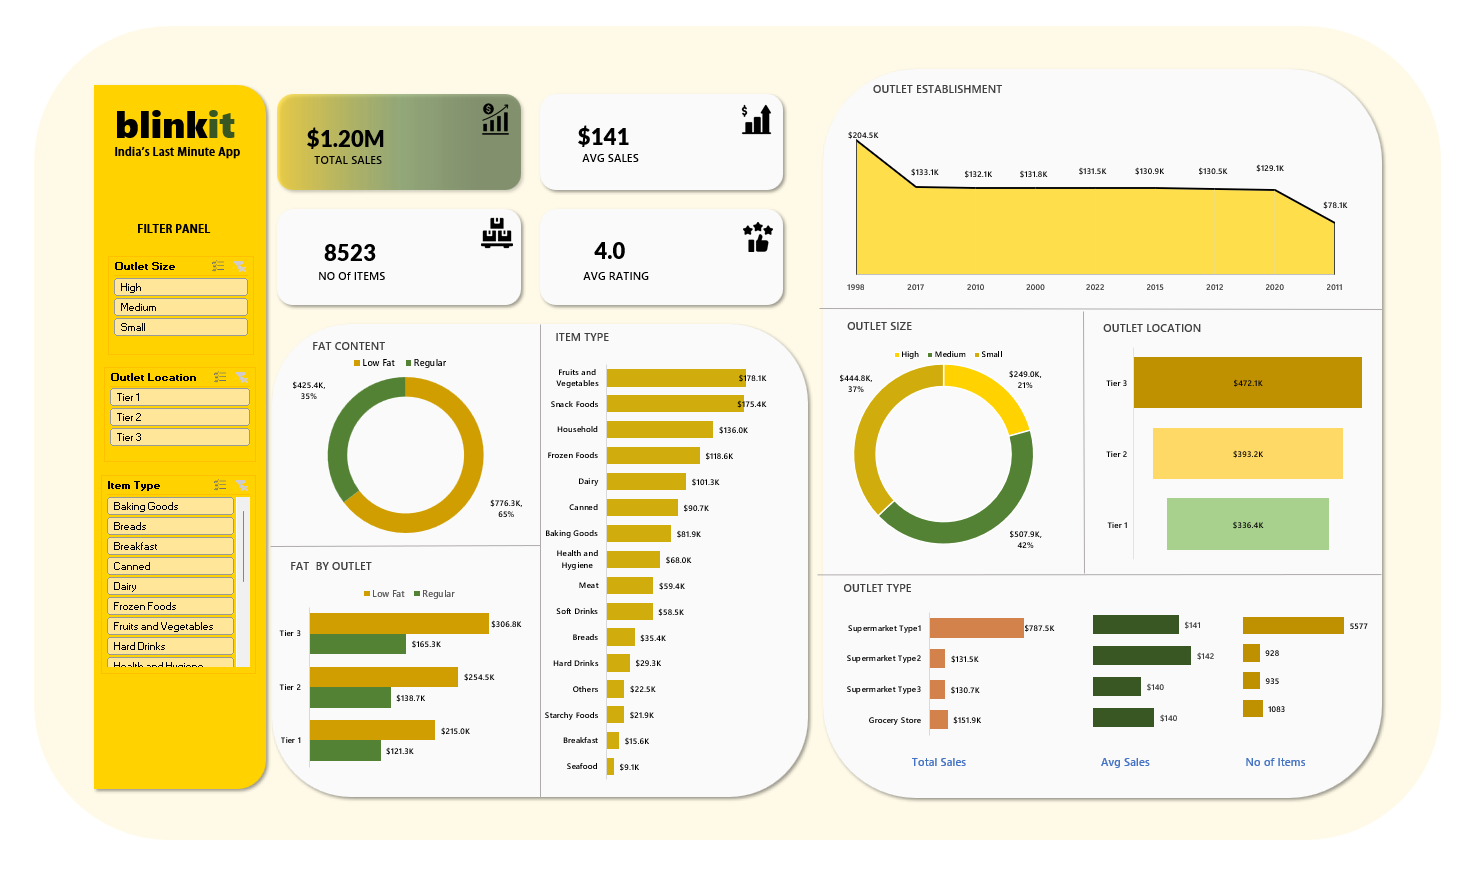

This screenshot's page, from the dashboard's own definition file:
{"tool":"powerbi","page":{"name":"Page 1","canvas":[1400,800],"ordinal":0},"visuals":[{"type":"shape","box":[0,24.5,205.3,758.5],"z":0},{"type":"textbox","box":[22.3,34,166,102.1],"z":1000},{"type":"textbox","box":[8.5,92.6,188.3,27.7],"z":2000},{"type":"cardVisual","fields":{"Data":["BlinkIT Grocery Data.Total Sales","BlinkIT Grocery Data.Avg Sales","BlinkIT Grocery Data.No of Items","BlinkIT Grocery Data.Avg Rating"]},"box":[196.8,14.9,571.3,270.2],"z":3000},{"type":"shape","box":[205.3,274.5,556.4,516],"z":4000},{"type":"slicer","title":"FAT  CONTENT","fields":{"Values":["BlinkIT Grocery Data.Outlet Location Type"]},"box":[22.3,290.4,140.4,66],"z":5000},{"type":"slicer","fields":{"Values":["Metrics.Metrics"]},"box":[268.1,285.1,431.9,35.1],"z":6000},{"type":"cardVisual","fields":{"Data":["BlinkIT Grocery Data.Total Sales"]},"box":[280.9,424.5,92.6,51.1],"z":7000},{"type":"clusteredBarChart","title":"FAT BY OUTLET","fields":{"Y":["BlinkIT Grocery Data.Total Sales"],"Category":["BlinkIT Grocery Data.Outlet Location Type"],"Series":["BlinkIT Grocery Data.Item Fat Content"]},"box":[216,561.7,216,221.3],"z":8000},{"type":"shape","box":[213.8,550,221.3,11.7],"z":9000},{"type":"shape","box":[428.7,328.7,12.8,452.1],"z":10000},{"type":"barChart","title":"ITEM TYPE","fields":{"Y":["BlinkIT Grocery Data.Total Sales"],"Category":["BlinkIT Grocery Data.Item Type"]},"box":[435.1,328.7,314.9,454.3],"z":11000},{"type":"shape","box":[750,30.9,650,759.6],"z":12000},{"type":"lineChart","title":"OUTLET ESTABLISHMENT","fields":{"Category":["BlinkIT Grocery Data.Outlet Establishment Year"],"Y":["BlinkIT Grocery Data.Total Sales"]},"box":[767,64.9,609.6,235.1],"z":13000},{"type":"shape","box":[758.5,300,629.8,11.7],"z":14000},{"type":"donutChart","title":"OUTLET SIZE","fields":{"Y":["BlinkIT Grocery Data.Total Sales"],"Category":["BlinkIT Grocery Data.Outlet Size"]},"box":[767,321.3,275.5,225.5],"z":15000},{"type":"shape","box":[1043.6,306.4,6.4,246.8],"z":16000},{"type":"funnel","title":"OUTLET LOCATION","fields":{"Y":["Sum(BlinkIT Grocery Data.Sales)"],"Category":["BlinkIT Grocery Data.Outlet Location Type"]},"box":[1050,326.6,327.7,223.4],"z":17000},{"type":"shape","box":[760.6,546.8,629.8,12.8],"z":18000},{"type":"pivotTable","title":"OUTLET TYPE","fields":{"Values":["BlinkIT Grocery Data.Total Sales","BlinkIT Grocery Data.No of Items","BlinkIT Grocery Data.Avg Sales","BlinkIT Grocery Data.Avg Rating","Avg(BlinkIT Grocery Data.Item Visibility)"],"Rows":["BlinkIT Grocery Data.Outlet Type"]},"box":[767,561.7,618.1,202.1],"z":19000},{"type":"slicer","title":"FAT  CONTENT","fields":{"Values":["BlinkIT Grocery Data.Outlet Size"]},"box":[22.3,367,140.4,66],"z":20000},{"type":"donutChart","title":"FAT CONTENT","fields":{"Y":["BlinkIT Grocery Data.Total Sales"],"Category":["BlinkIT Grocery Data.Item Fat Content"]},"box":[216,331.9,216,221.3],"z":21000},{"type":"slicer","title":"FAT  CONTENT","fields":{"Values":["BlinkIT Grocery Data.Item Type"]},"box":[22.3,442.6,140.4,66],"z":22000},{"type":"textbox","box":[43.6,260.6,119.1,29.8],"z":23000}]}

Visuals, with their boxes on the page's 1400x800 design canvas (x1, y1, x2, y2). These are canvas units, not pixel positions in the 1474x878 screenshot, which may show the page scaled, cropped or inside an application window:
shape: bbox=(0, 24, 205, 783)
textbox: bbox=(22, 34, 188, 136)
textbox: bbox=(8, 93, 197, 120)
cardVisual - BlinkIT Grocery Data.Total Sales x BlinkIT Grocery Data.Avg Sales: bbox=(197, 15, 768, 285)
shape: bbox=(205, 274, 762, 790)
"FAT  CONTENT" slicer: bbox=(22, 290, 163, 356)
slicer - Metrics.Metrics: bbox=(268, 285, 700, 320)
cardVisual - BlinkIT Grocery Data.Total Sales: bbox=(281, 424, 374, 476)
"FAT BY OUTLET" clusteredBarChart: bbox=(216, 562, 432, 783)
shape: bbox=(214, 550, 435, 562)
shape: bbox=(429, 329, 442, 781)
"ITEM TYPE" barChart: bbox=(435, 329, 750, 783)
shape: bbox=(750, 31, 1400, 790)
"OUTLET ESTABLISHMENT" lineChart: bbox=(767, 65, 1377, 300)
shape: bbox=(758, 300, 1388, 312)
"OUTLET SIZE" donutChart: bbox=(767, 321, 1042, 547)
shape: bbox=(1044, 306, 1050, 553)
"OUTLET LOCATION" funnel: bbox=(1050, 327, 1378, 550)
shape: bbox=(761, 547, 1390, 560)
"OUTLET TYPE" pivotTable: bbox=(767, 562, 1385, 764)
"FAT  CONTENT" slicer: bbox=(22, 367, 163, 433)
"FAT CONTENT" donutChart: bbox=(216, 332, 432, 553)
"FAT  CONTENT" slicer: bbox=(22, 443, 163, 509)
textbox: bbox=(44, 261, 163, 290)
